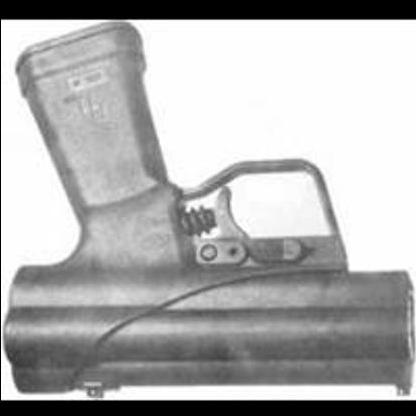weapon: (7, 21, 412, 402)
